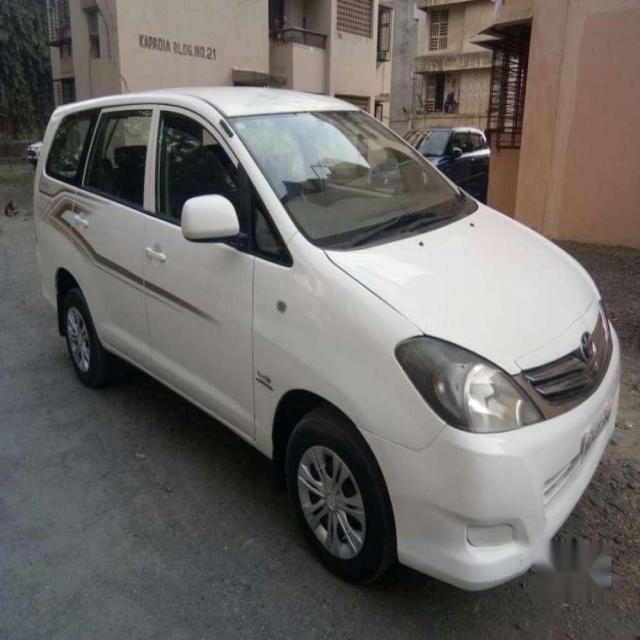light_vehicle: (31, 83, 623, 594)
